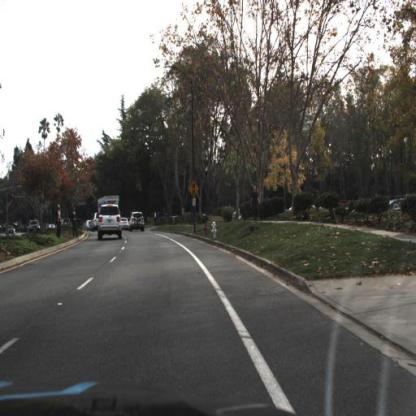car: (97, 201, 124, 243), (98, 204, 125, 242), (25, 215, 43, 235), (128, 212, 146, 230)
pedestrian: (250, 182, 262, 221), (54, 202, 63, 240), (72, 209, 80, 238)
